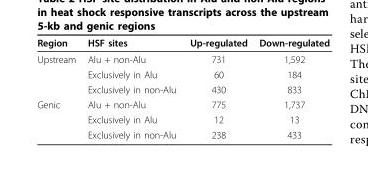table: (36, 36, 328, 139)
table column: (81, 36, 182, 139), (252, 36, 328, 139), (182, 36, 252, 139), (36, 36, 81, 139)
table column header: (36, 36, 328, 50)
table row: (36, 50, 328, 66), (36, 66, 328, 81), (36, 81, 328, 96), (36, 96, 328, 111), (36, 111, 328, 126), (36, 36, 328, 50), (36, 126, 328, 139)
table spanning cell: (36, 50, 81, 96), (36, 96, 81, 139)
